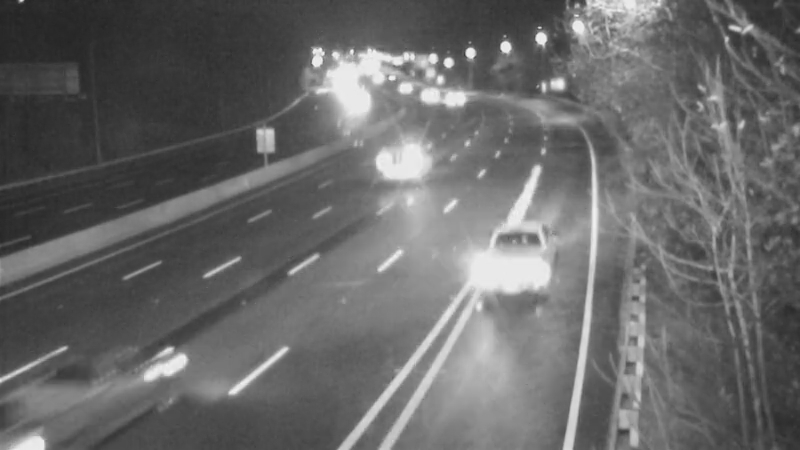vehicle: (19, 344, 129, 450), (372, 119, 452, 199), (471, 221, 551, 301), (377, 61, 427, 111), (402, 66, 452, 116), (429, 71, 479, 121)
